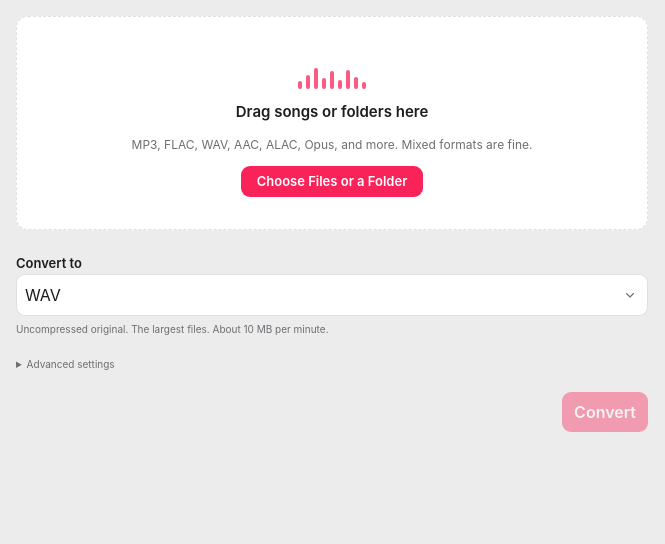
Test: SetupView - advanced settings caption switches by codec kind (SetupView.swift:182-204) › shows the uncompressed explanation and no quality/compression picker for WAV
Click the heading "Advanced settings". click: (71, 364)
box: [27, 358, 115, 370]
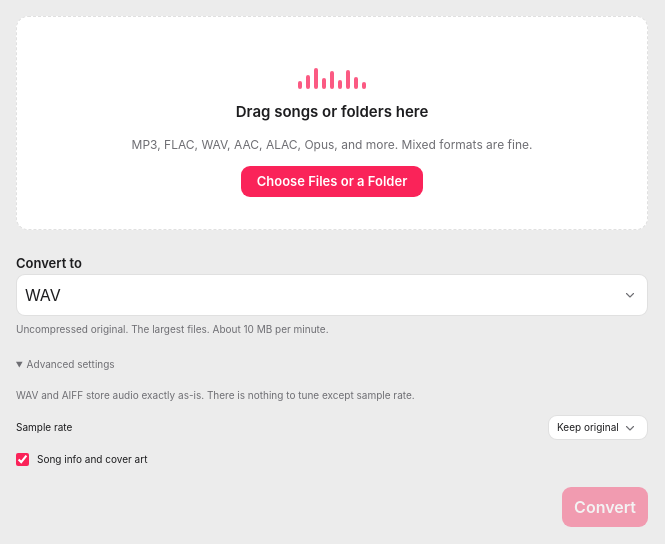
Now the text "WAV and AIFF store audio exactly as-is" is shown, box [16, 389, 415, 401]
